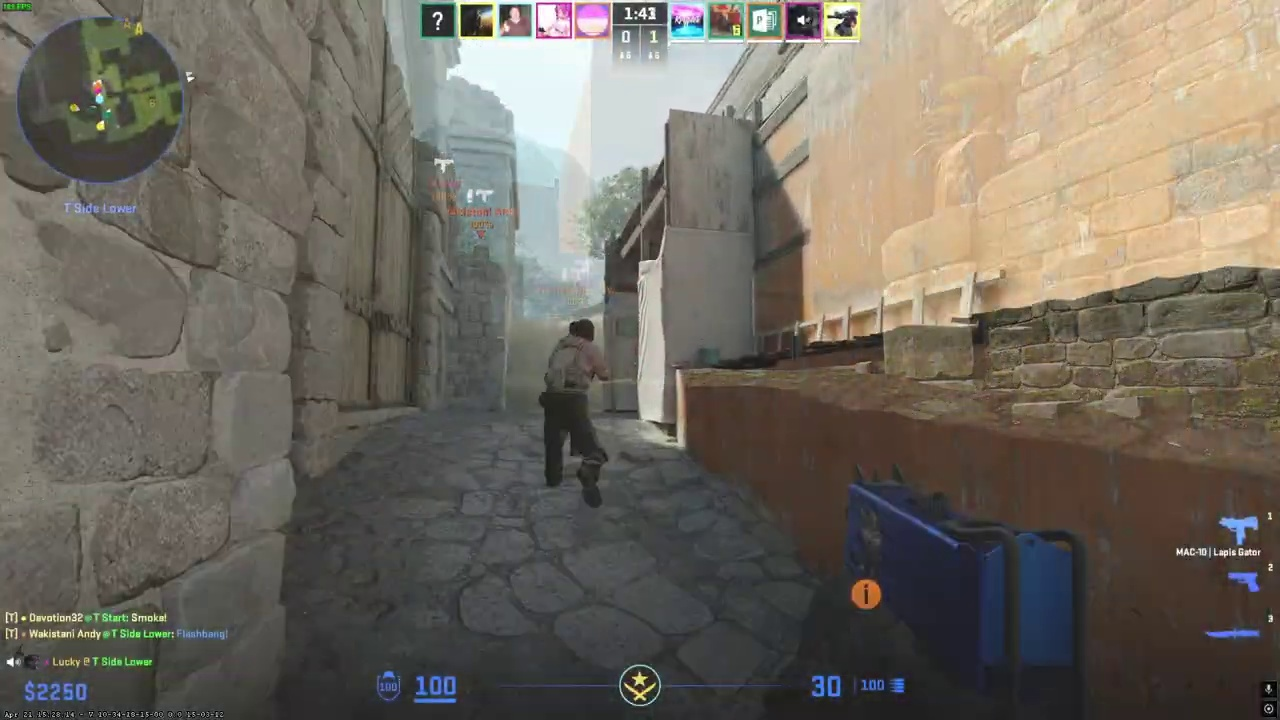Terrorist: (538, 317, 610, 508)
